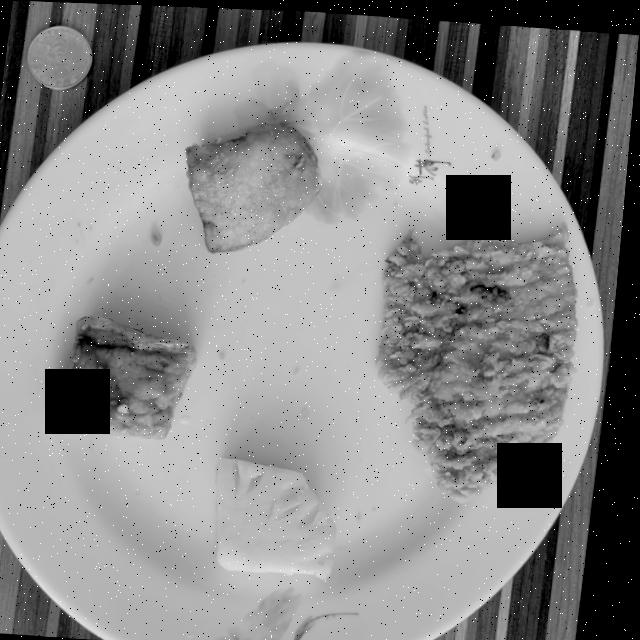coin: (26, 25, 92, 89)
creamy tofu: (54, 314, 201, 437)
fried chicken cutlet: (381, 218, 581, 498)
fried potato: (187, 122, 324, 250)
pineapple: (224, 456, 344, 575)
